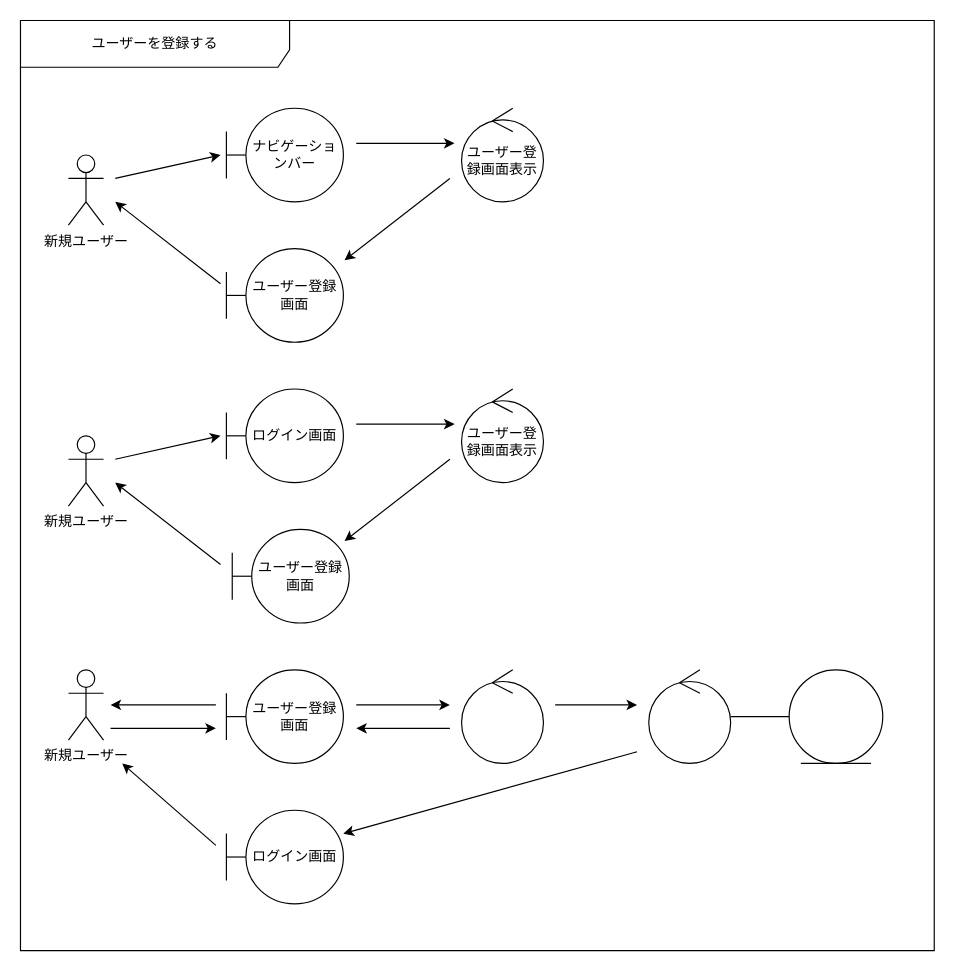
Some shapes in this 955 by 971 pixel diagram are drawn without their labels. The centre of each missing label's shape, as x and y in pixels:
バリデーション: (x=501, y=716)
ユーザー情報: (x=835, y=716)
ユーザー登録: (x=689, y=716)
